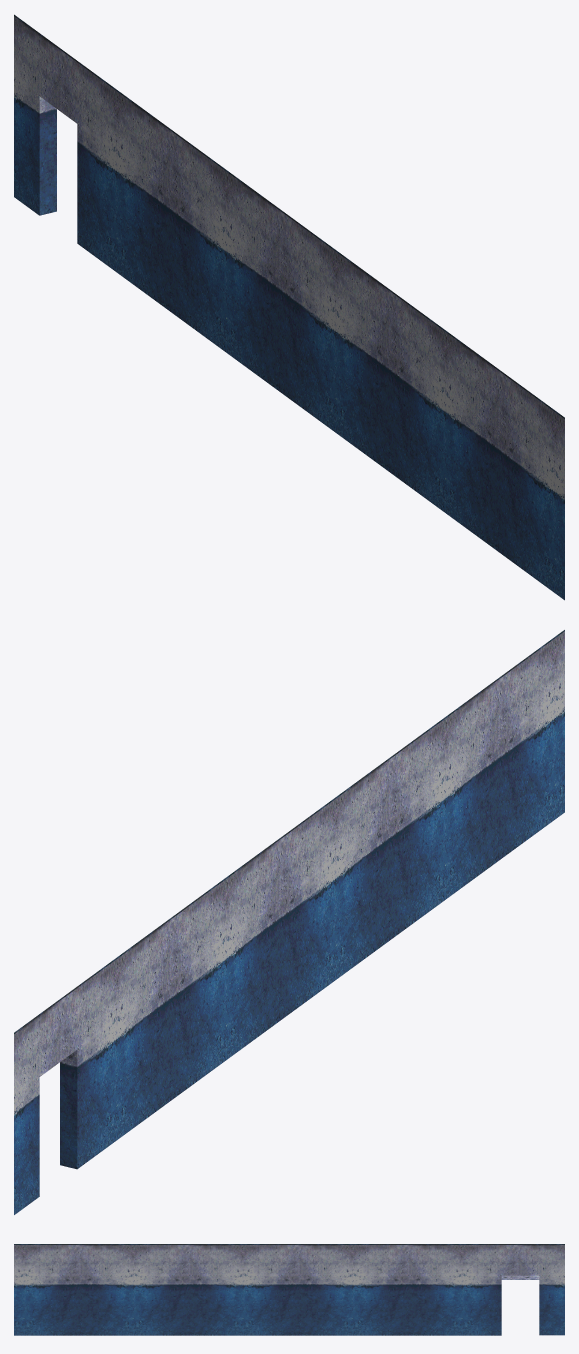
File: wall_2.fbx
The picture shows the model from 3 angles, top to bottom: view 1: azimuth 30°, elevation 25°; view 2: azimuth 150°, elevation 25°; view 3: azimuth 270°, elevation 25°; orthographic projection. The views are drawn at different scales.
Visible parts, largest first — view 1: Cube.012; view 2: Cube.012; view 3: Cube.012.
Part boxes in pixels (x1,y1,x2,y2): Cube.012: [14, 14, 564, 600]; Cube.012: [14, 630, 564, 1214]; Cube.012: [14, 1244, 564, 1335].
Size of the model in its own units: 40 by 403 by 2201.
